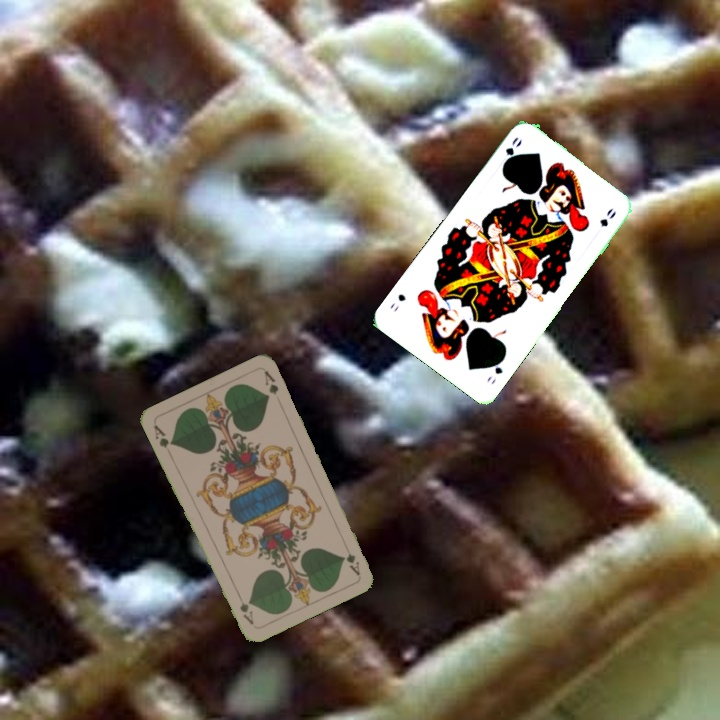GA: (150, 421, 176, 458), (340, 539, 363, 577)
GO: (499, 133, 525, 167), (482, 352, 507, 387)
